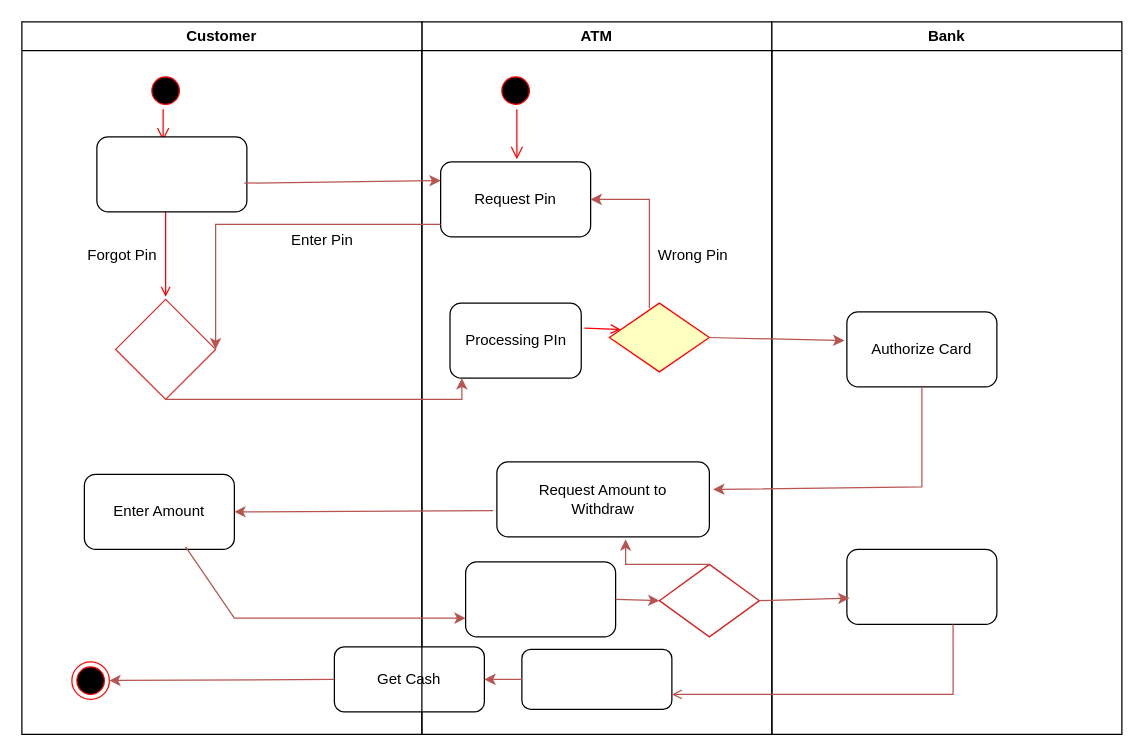
This 1144x756 diagram has some shape labels left out. The centre of each missing label's shape, as x and y in pixels:
"Authorize Withdraw" belongs at [921,586].
"Processing Amount" belongs at [540,599].
"Processing Withdraw" belongs at [596,678].
"Start Session" belongs at [171,174].
